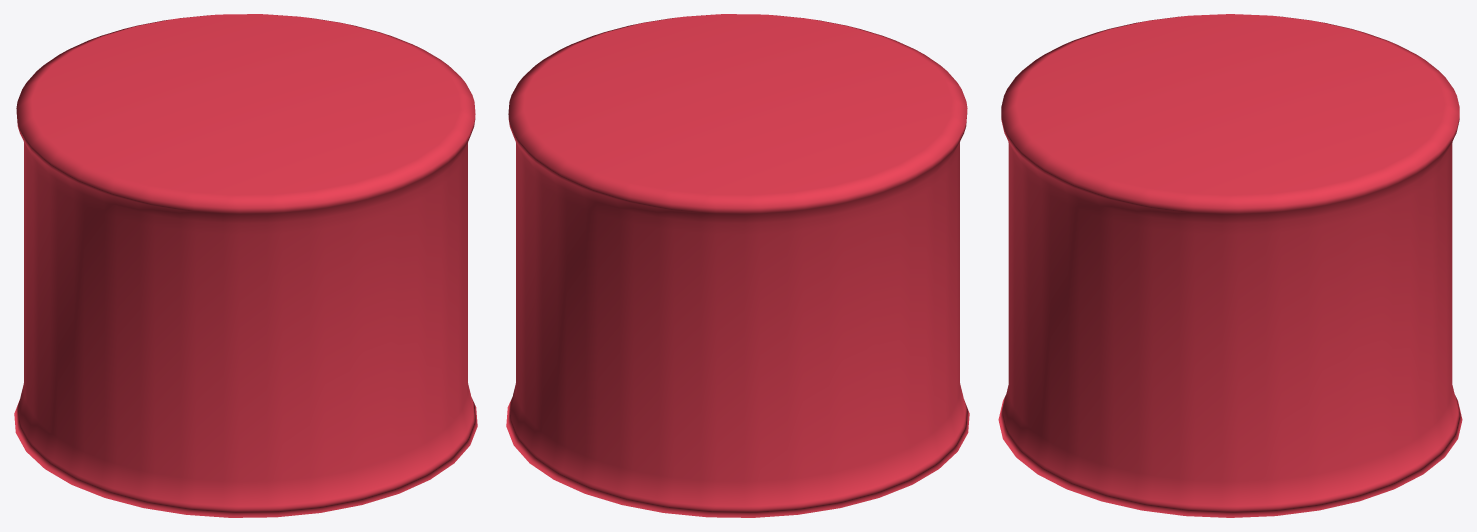
The model's file is Circle Chair.fbx.
3 views of the same model, side by side, from view 1: azimuth 30°, elevation 25°; view 2: azimuth 150°, elevation 25°; view 3: azimuth 270°, elevation 25° (orthographic).
Visible parts, largest first — view 1: Red Stolls.004|Cylinder.001|Dupli|; view 2: Red Stolls.004|Cylinder.001|Dupli|; view 3: Red Stolls.004|Cylinder.001|Dupli|.
Boxes of the visible parts, box(x1,y1,x2,y2) form: Red Stolls.004|Cylinder.001|Dupli|: box(14, 14, 477, 517); Red Stolls.004|Cylinder.001|Dupli|: box(506, 14, 969, 517); Red Stolls.004|Cylinder.001|Dupli|: box(998, 14, 1462, 517).
Size of the model in its own units: 28.06 by 21.04 by 28.06.
